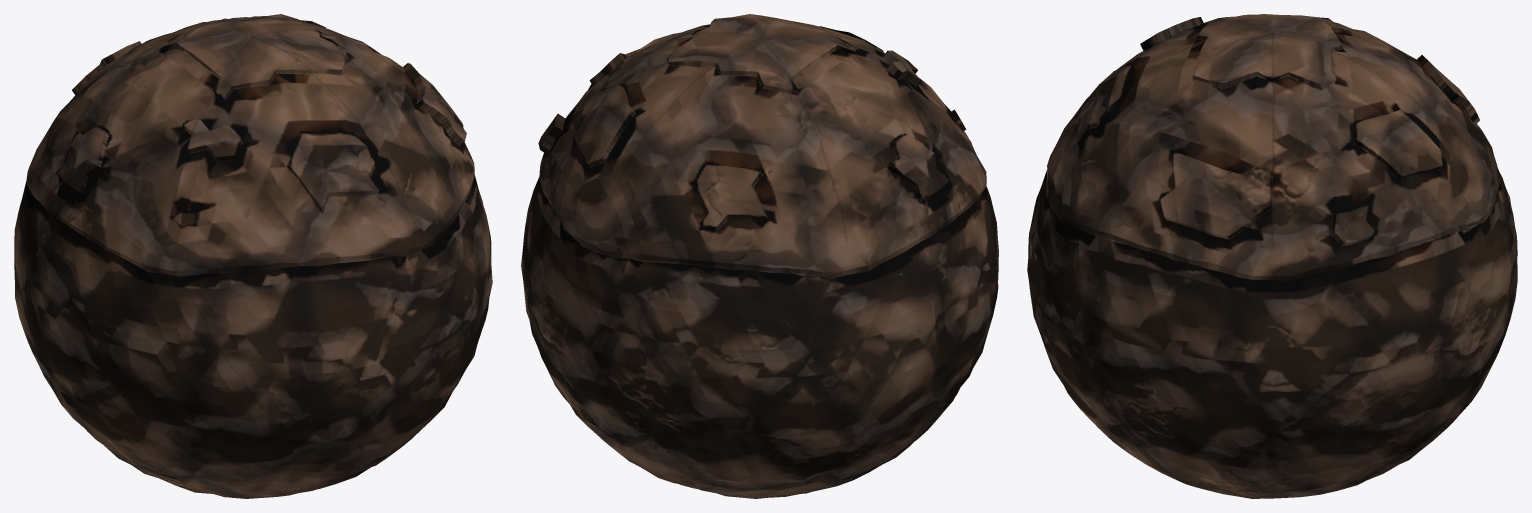
File: claytest2.fbx
3 views of the same model, side by side, from view 1: azimuth 30°, elevation 25°; view 2: azimuth 150°, elevation 25°; view 3: azimuth 270°, elevation 25° (orthographic).
Parts seen in each view (by area): view 1: Icosphere; view 2: Icosphere; view 3: Icosphere.
Boxes of the visible parts, <box> form: Icosphere: <box>14,14,492,498</box>; Icosphere: <box>521,14,998,498</box>; Icosphere: <box>1027,14,1517,498</box>.
Bounding box in the file's own units: 835 × 847 × 847.
1 material, 1 textured.
